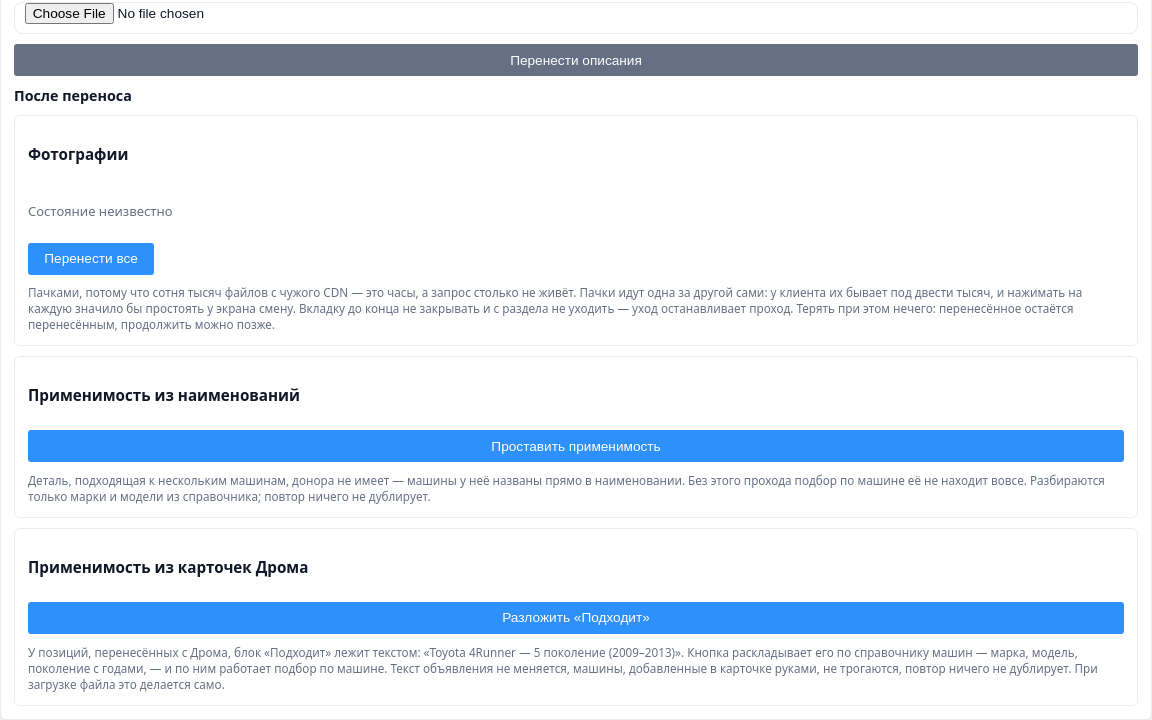
Test: применимость из карточек Дрома › поколение по коду кузова — отдельной строкой, и не определившиеся названы причиной (0295)
The image size is (1152, 720).
(page scrolled)
Click the button "Разложить «Подходит»" at (576, 618), box [28,602,1124,634]
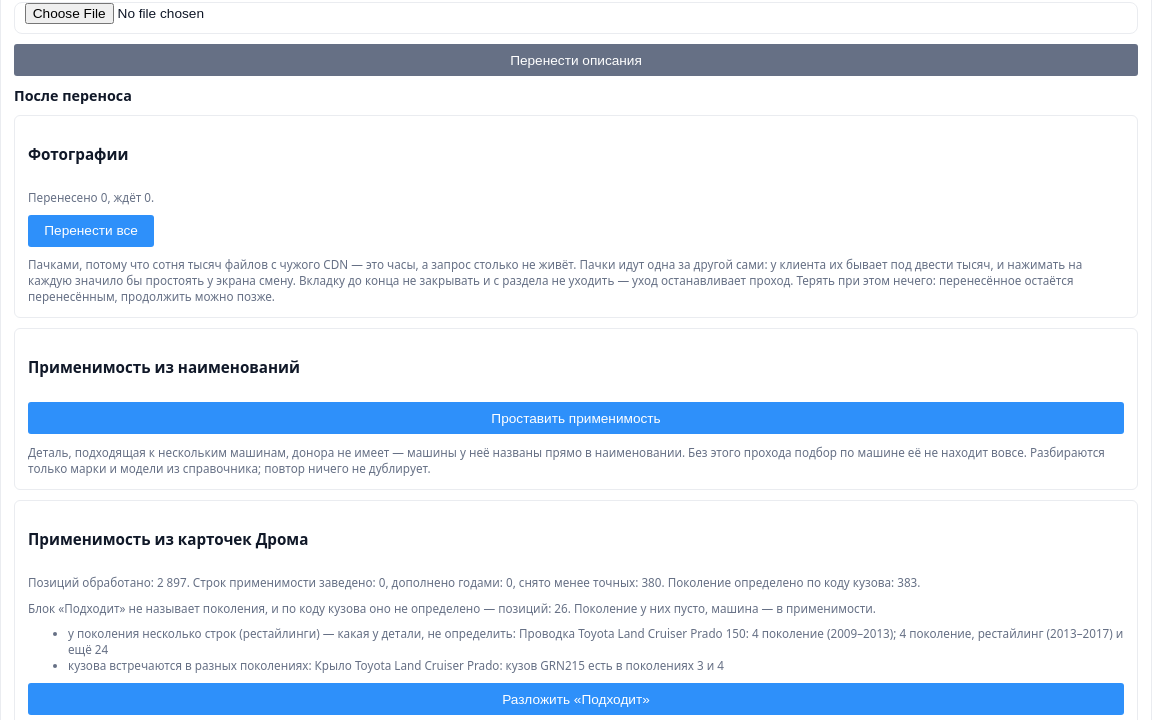
Expected: the text "Поколение определено по коду кузова: 383." is shown, [665,574,920,590]
Expected: the text "по коду кузова оно не определено — позиций: 26." is shown, [28,600,876,616]
